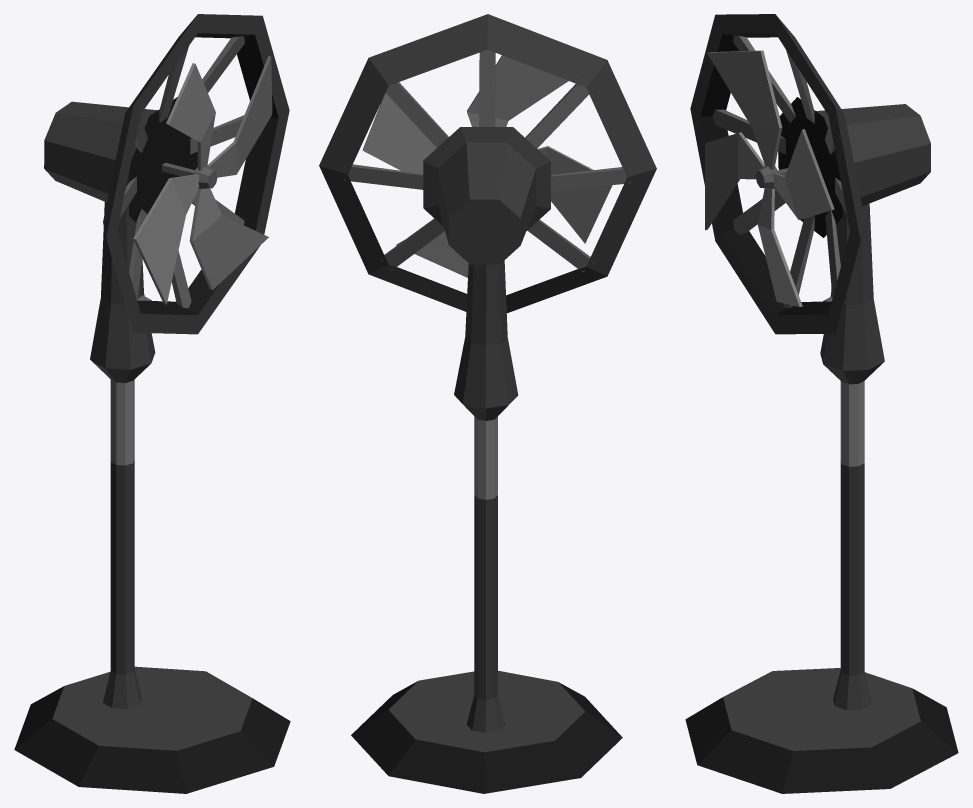
The model's file is BigFan.glb.
3 views of the same model, side by side, from view 1: azimuth 30°, elevation 25°; view 2: azimuth 150°, elevation 25°; view 3: azimuth 270°, elevation 25° (orthographic). The views are drawn at different scales.
Visible parts, largest first — view 1: BigFan; view 2: BigFan; view 3: BigFan.
Boxes of the visible parts, x1,y1,x2,y2 form: BigFan: (14, 14, 290, 793); BigFan: (319, 14, 656, 793); BigFan: (685, 14, 958, 793).
Bounding box in the file's own units: 0.6687 × 1.71 × 0.5761.
Materials: 1 (1 with a texture image).
